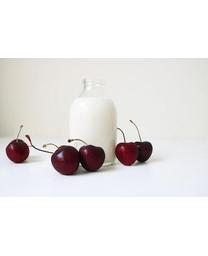cherry: (50, 145, 79, 175), (78, 146, 105, 172), (6, 139, 29, 164), (115, 142, 138, 166), (132, 141, 153, 162)
